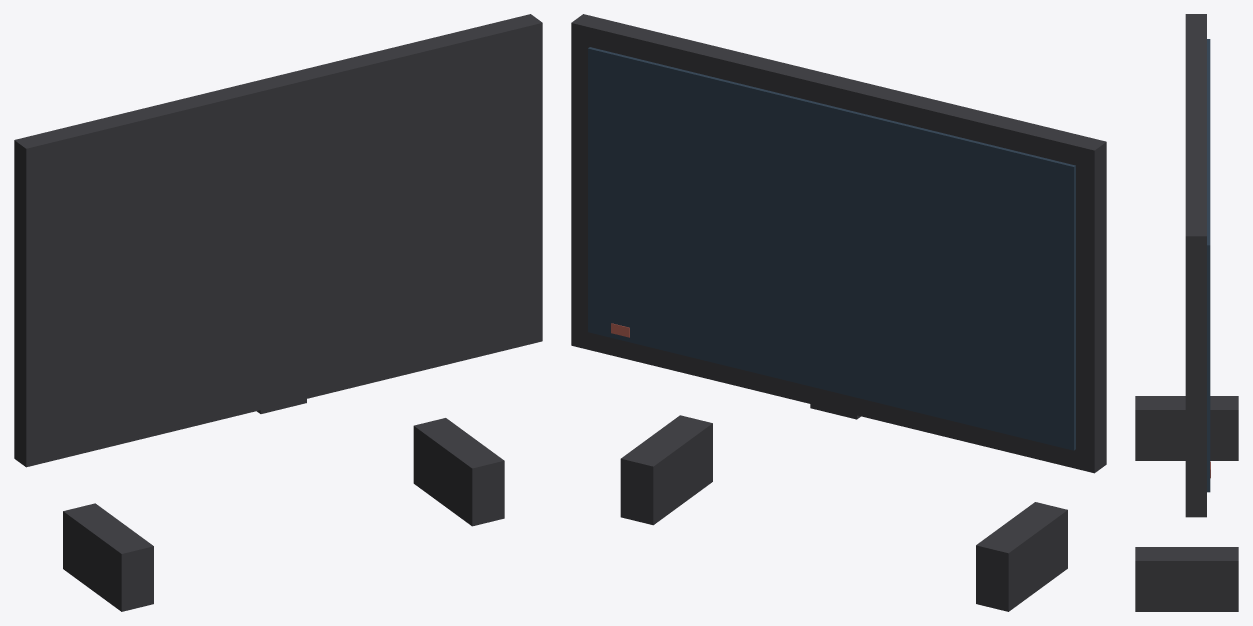
File: eld_tv_50.glb
The picture shows the model from 3 angles, left to right: view 1: azimuth 30°, elevation 25°; view 2: azimuth 150°, elevation 25°; view 3: azimuth 270°, elevation 25°; orthographic projection. The views are drawn at different scales.
Visible parts, largest first — view 1: ELD_TV_50_v01; view 2: ELD_TV_50_v01; view 3: ELD_TV_50_v01.
Boxes of the visible parts, bbox=[...] form: ELD_TV_50_v01: bbox=[14, 14, 542, 611]; ELD_TV_50_v01: bbox=[571, 14, 1106, 611]; ELD_TV_50_v01: bbox=[1135, 14, 1238, 611].
Bounding box in the file's own units: 1.12 × 0.95 × 0.22.
